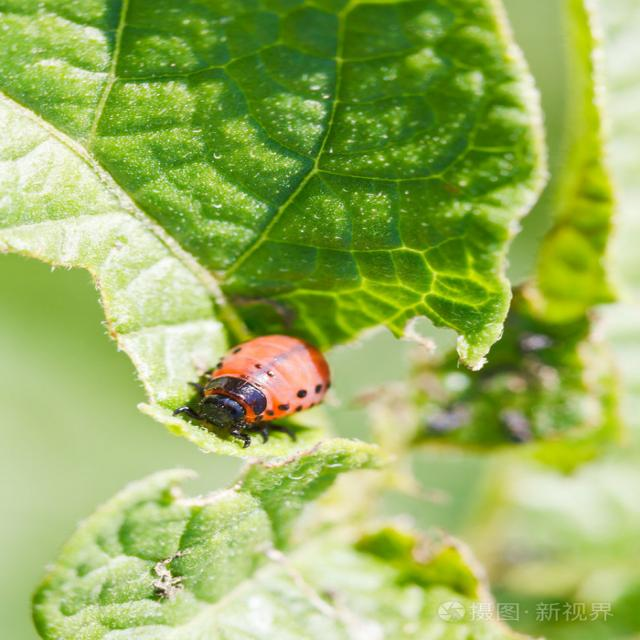ShuCaiHuaBanChong-Larva-: (165, 317, 400, 469)
